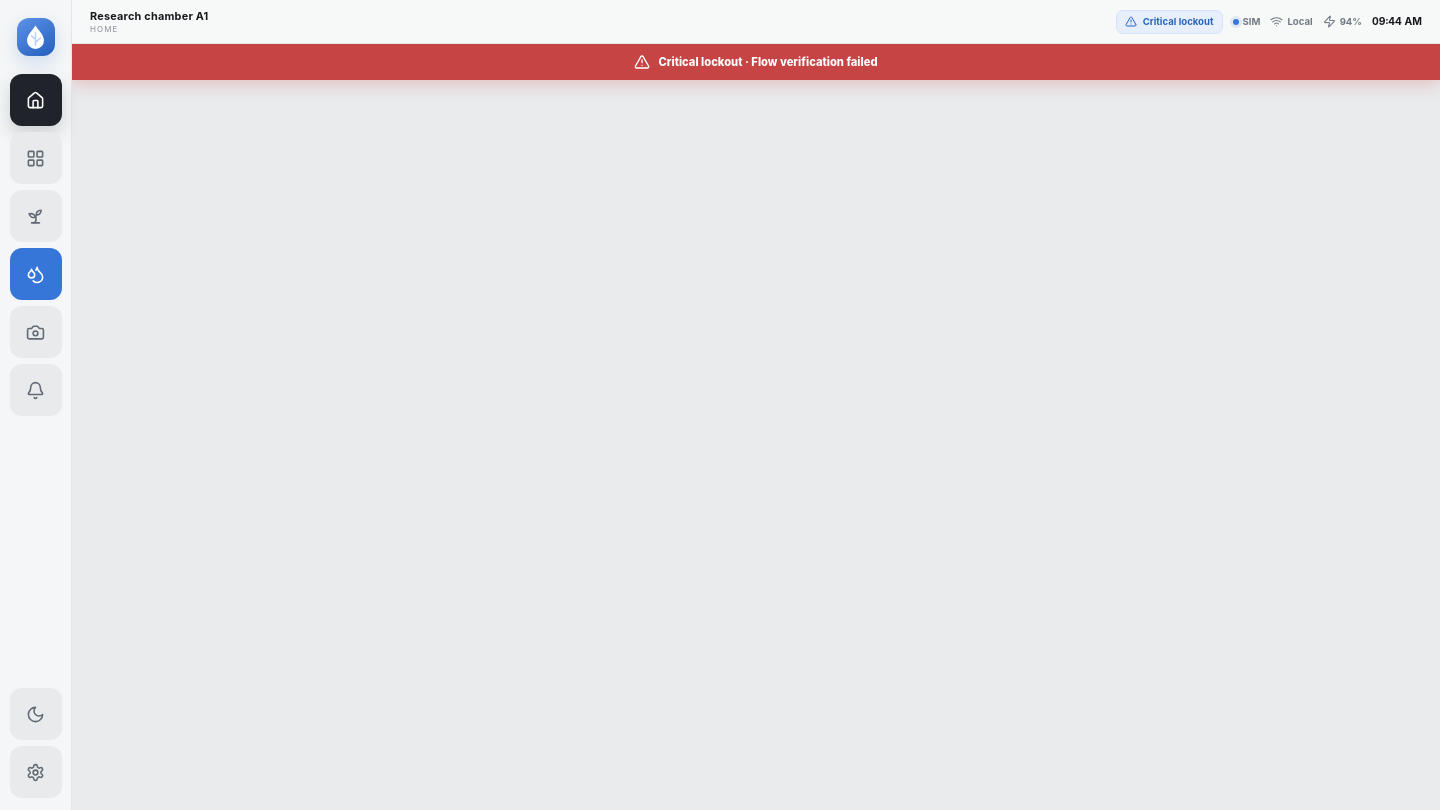
it: AeroOS production shell › disables unsafe misting during a critical lockout
This screenshot has width=1440, height=810.
Expected: the message shows "Critical lockout", left=658, top=55, right=751, bottom=69
Click the button named "Open mist controls" at (36, 274), box left=10, top=248, right=62, bottom=300
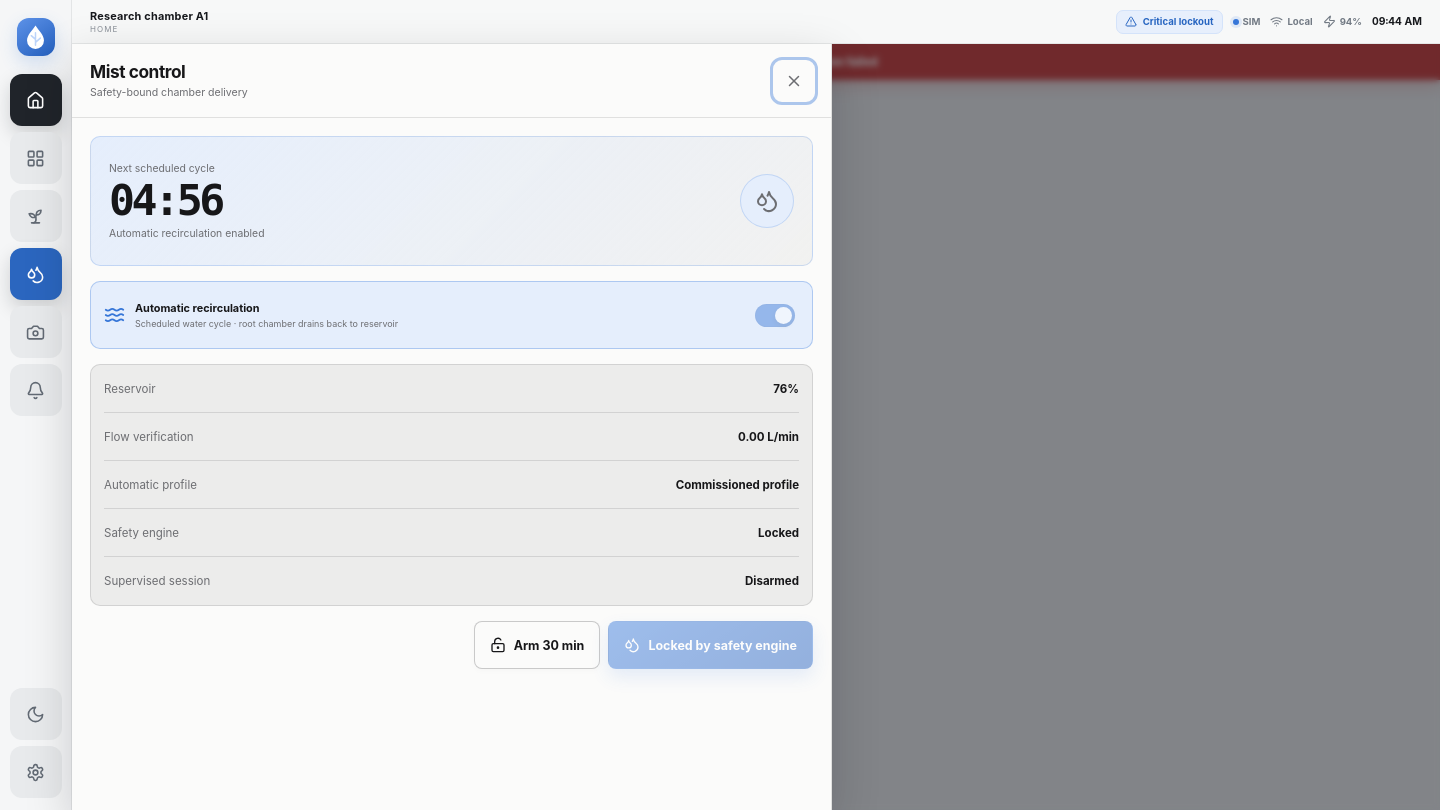
Expected: the button "Locked by safety engine" is disabled, left=608, top=621, right=813, bottom=669
